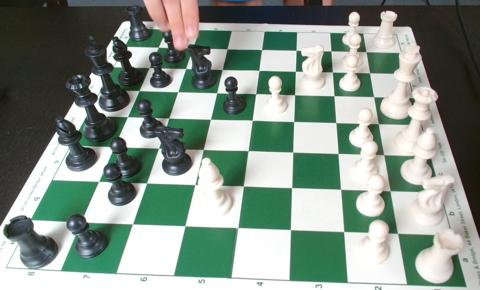xcorner: (391, 228, 403, 240), (107, 141, 119, 153), (151, 142, 163, 154), (240, 145, 252, 157), (331, 148, 343, 160), (120, 111, 132, 123), (161, 112, 173, 124), (329, 117, 341, 129), (372, 118, 384, 130), (170, 86, 182, 98), (209, 87, 221, 99), (248, 88, 260, 100), (327, 90, 339, 102), (288, 65, 300, 77), (363, 67, 375, 79), (219, 43, 231, 55), (324, 45, 336, 57), (75, 216, 87, 227), (126, 218, 138, 229), (178, 220, 190, 231), (230, 222, 242, 233), (283, 224, 295, 235), (337, 226, 348, 238), (92, 176, 104, 187), (140, 177, 151, 189), (187, 179, 199, 190), (236, 180, 247, 192), (285, 182, 296, 194), (378, 149, 389, 161), (132, 85, 143, 97), (288, 89, 299, 101), (368, 91, 379, 103), (142, 62, 153, 74), (178, 63, 189, 75), (214, 64, 226, 75), (251, 65, 263, 76), (326, 66, 337, 78), (150, 42, 162, 53), (254, 44, 266, 55), (289, 45, 301, 56), (360, 46, 371, 58), (334, 184, 345, 195), (384, 186, 395, 197), (196, 144, 207, 155), (286, 147, 297, 158), (203, 114, 214, 125), (245, 115, 256, 126), (287, 116, 298, 127), (185, 43, 196, 54)
